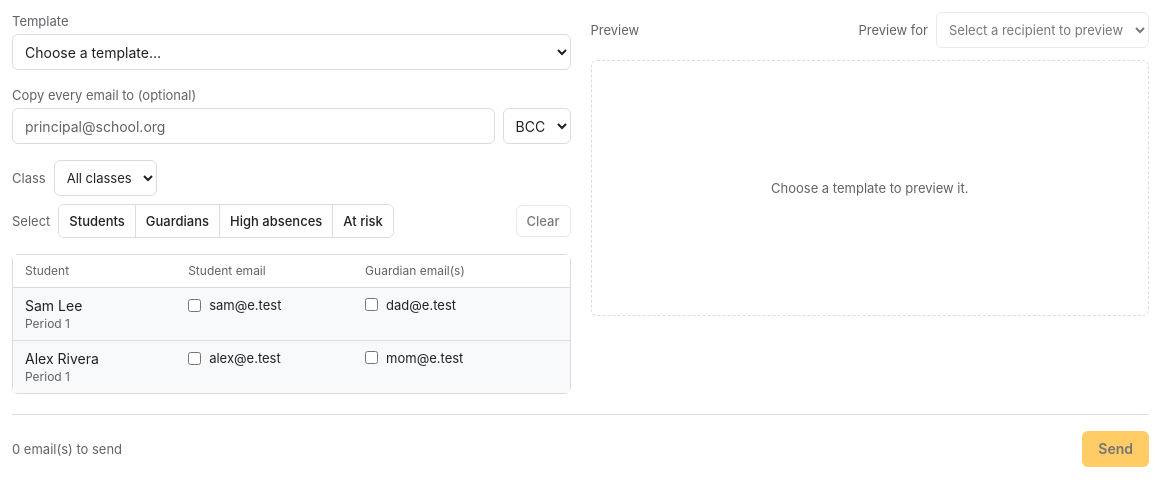
ComposeView › High absences selects both the student and guardian emails for flagged rows
Expected: the button "Alex Rivera" is shown, x1=25 y1=349 x2=99 y2=369
Click the button "High absences". click: (277, 221)
box: x1=220 y1=205 x2=333 y2=237
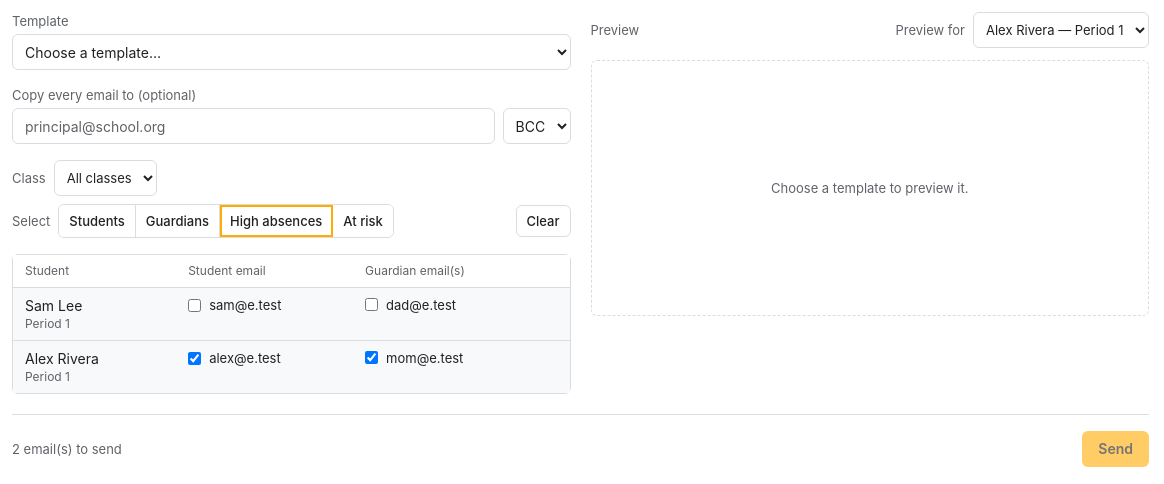
Expected: the checkbox named "Student email for Sam Lee in Period 1" is not checked, x1=188 y1=298 x2=201 y2=312
Expected: the checkbox named "Student email for Alex Rivera in Period 1" is checked, x1=188 y1=352 x2=201 y2=364
Expected: the checkbox named "Guardian emails for Alex Rivera in Period 1" is checked, x1=365 y1=351 x2=378 y2=364
